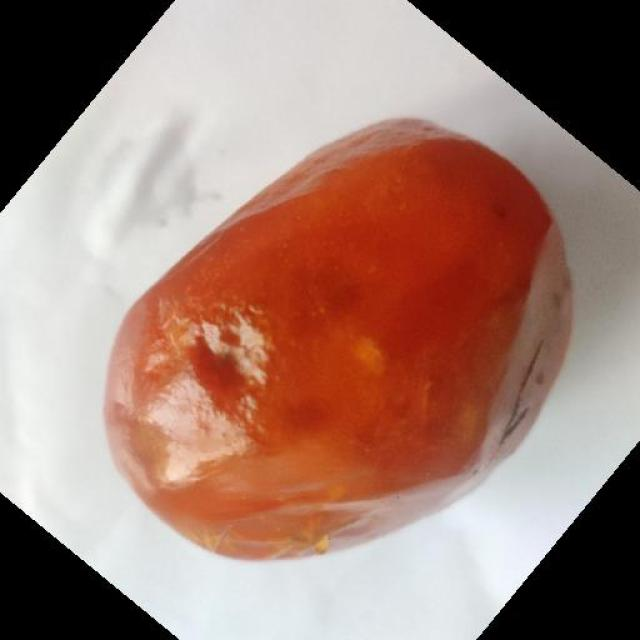Stale_tomato: (89, 108, 586, 562)
